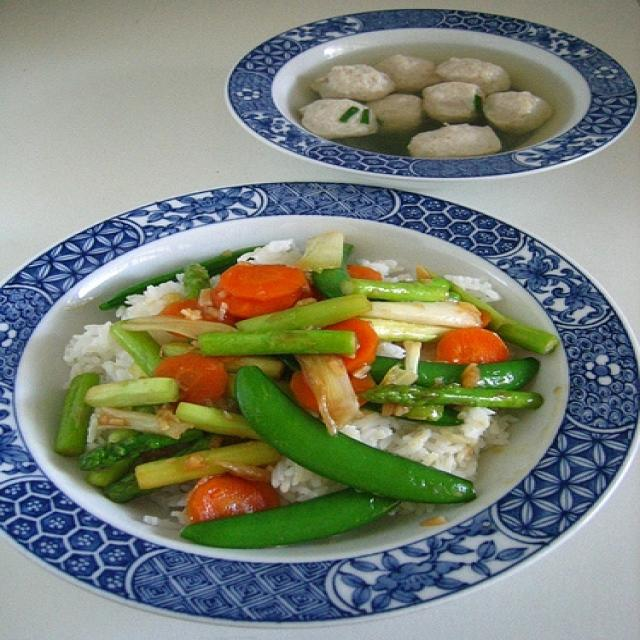蔬菜料理: (7, 178, 621, 608)
